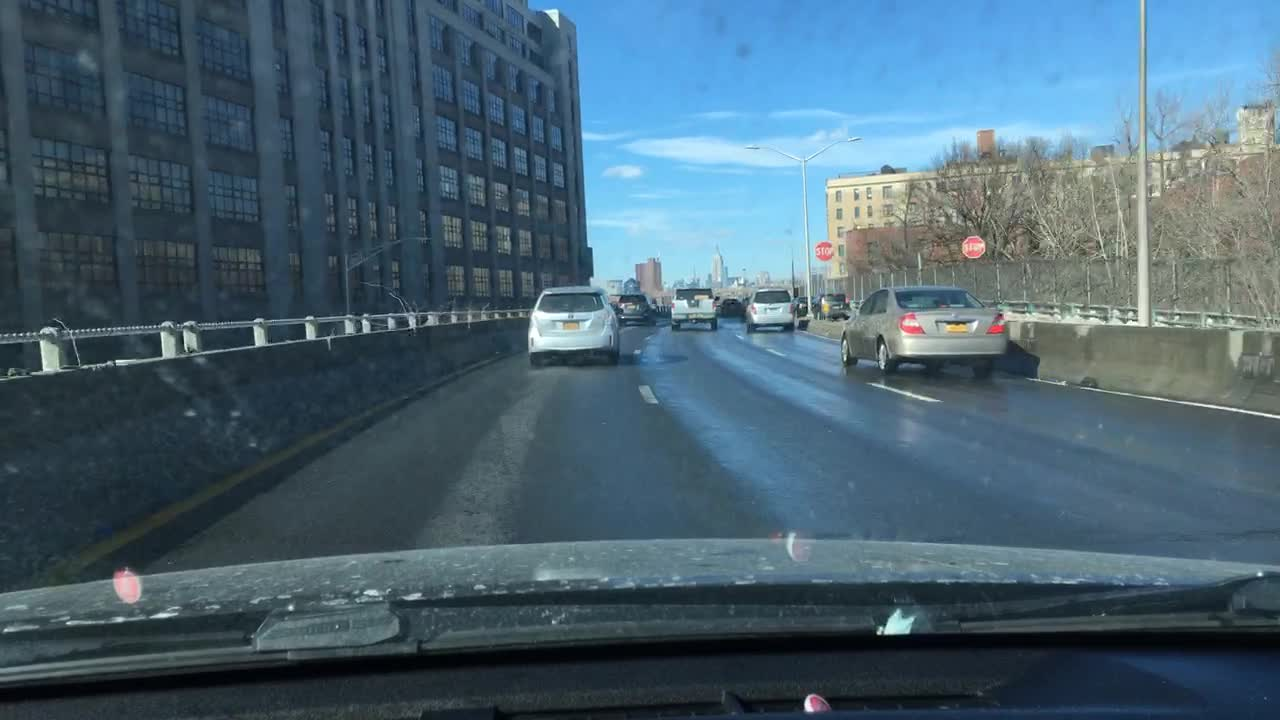car: (838, 285, 1011, 376), (526, 284, 623, 366), (667, 285, 721, 333), (744, 290, 797, 333), (611, 291, 658, 326), (821, 290, 852, 319), (721, 295, 746, 320), (797, 293, 817, 319)
traffic sign: (960, 234, 984, 262), (812, 242, 835, 262)
